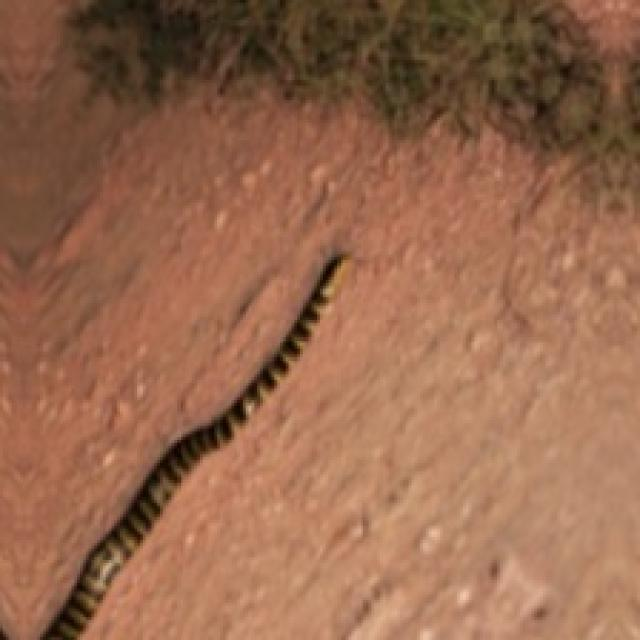mangrove cat snake: (40, 254, 346, 637)
